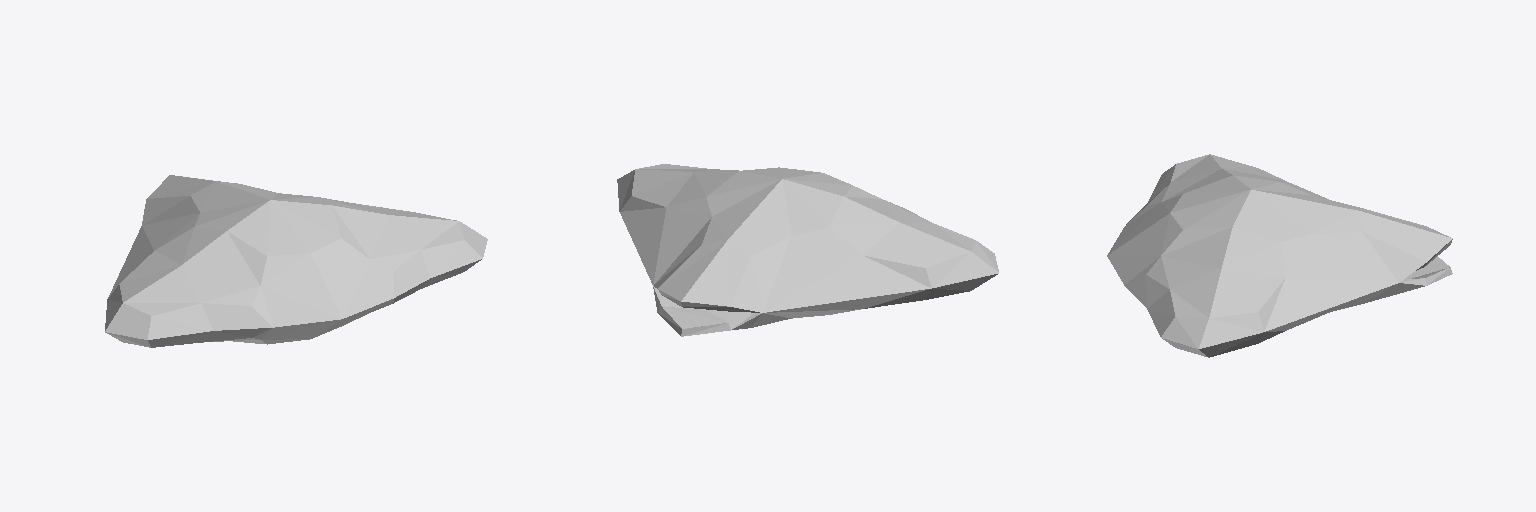
File: ship2.obj
3 views of the same model, side by side, from view 1: azimuth 30°, elevation 25°; view 2: azimuth 150°, elevation 25°; view 3: azimuth 270°, elevation 25° (orthographic).
Visible parts, largest first — view 1: Cube; view 2: Cube; view 3: Cube.
Part boxes in pixels (x1,y1,x2,y2): Cube: (105, 175, 487, 347); Cube: (617, 164, 998, 336); Cube: (1107, 154, 1452, 357).
Size of the model in its own units: 4.5 by 1.49 by 3.52.